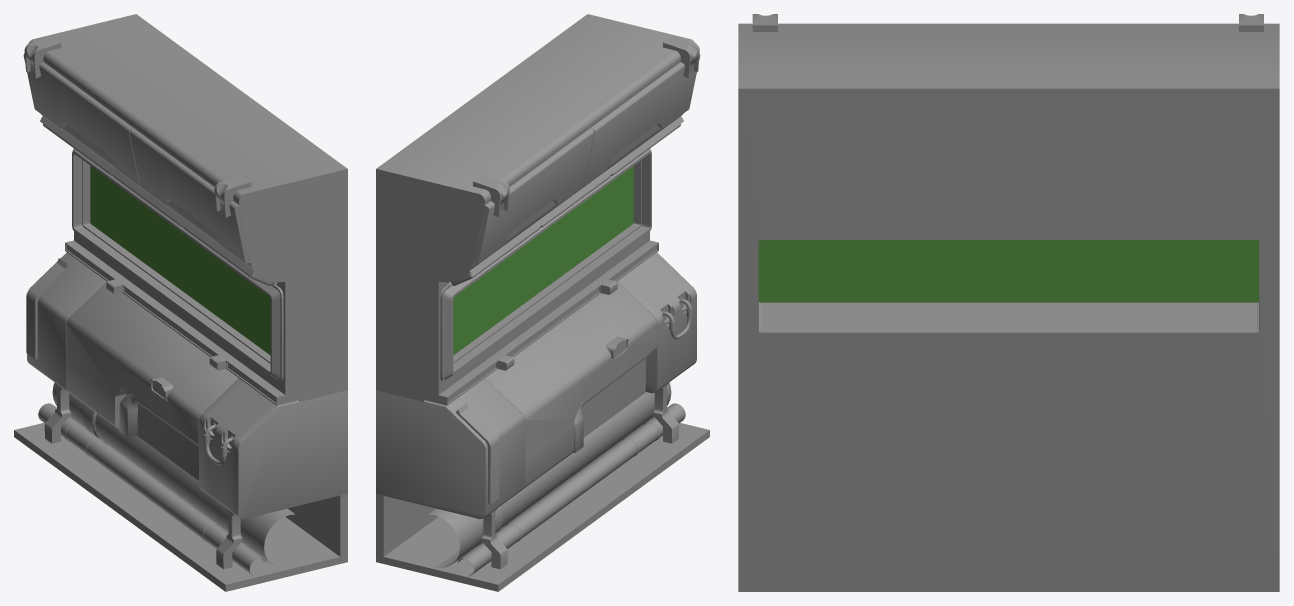
Rendered from window_4.FBX.
3 views of the same model, side by side, from view 1: azimuth 30°, elevation 25°; view 2: azimuth 150°, elevation 25°; view 3: azimuth 270°, elevation 25° (orthographic). The views are drawn at different scales.
Visible parts, largest first — view 1: window_low; view 2: window_low; view 3: window_low.
Boxes of the visible parts, x1,y1,x2,y2 form: window_low: [14, 14, 347, 591]; window_low: [376, 14, 709, 591]; window_low: [738, 14, 1279, 591].
Size of the model in its own units: 1 by 3.12 by 3.
